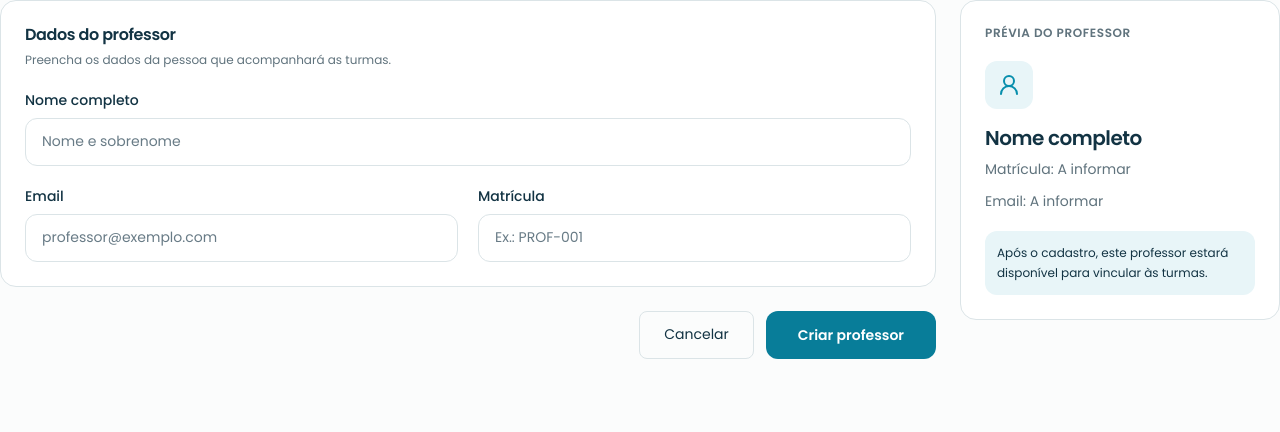
Test: formulário valida campos, mostra prévia e salva
Later steps or results of the test are not shown.
Submit the form
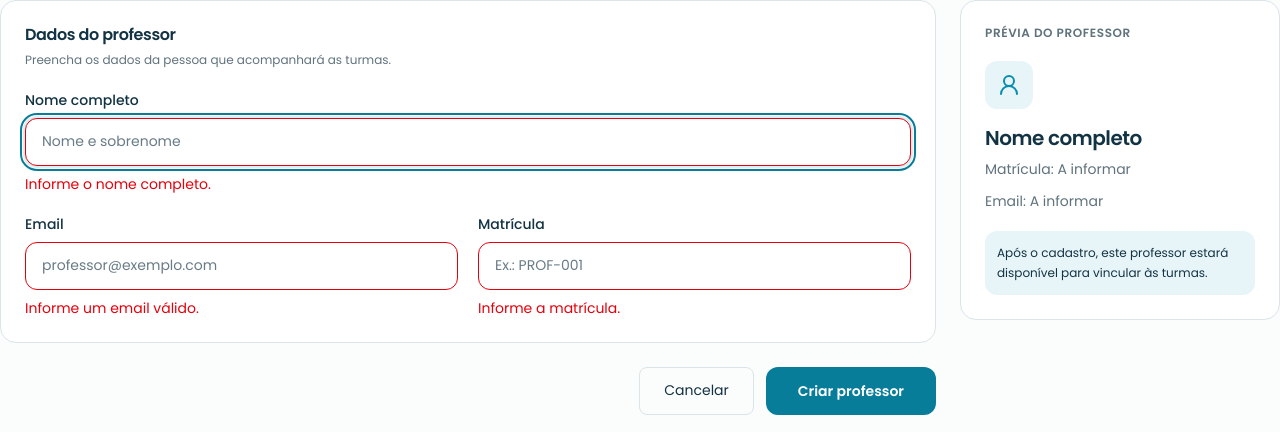
Expected: the message "Informe o nome completo." is shown, 25,174 -> 211,194
Type "Maria Silva" into the field named "name" at (468, 142), box 25,118 -> 911,166
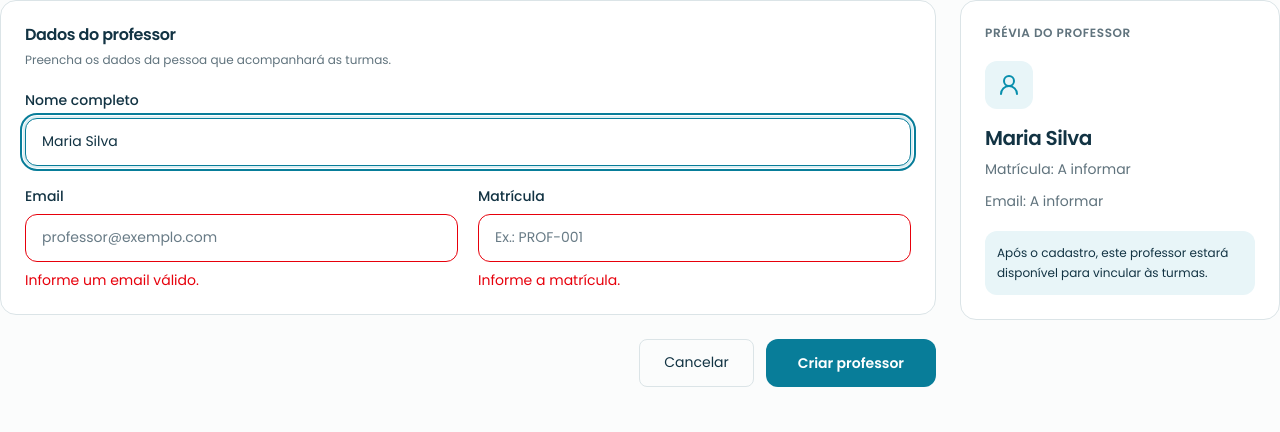
Type "maria@example.com" into the field labelled "Email" at (242, 238), box 25,214 -> 458,262
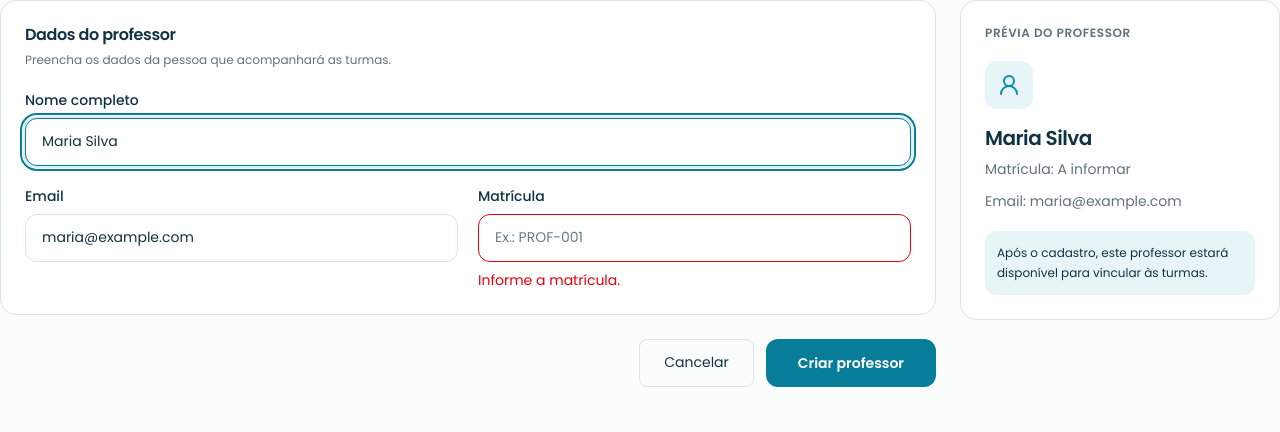
Type "t-1" into the field labelled "Matrícula" at (694, 238), box 478,214 -> 911,262
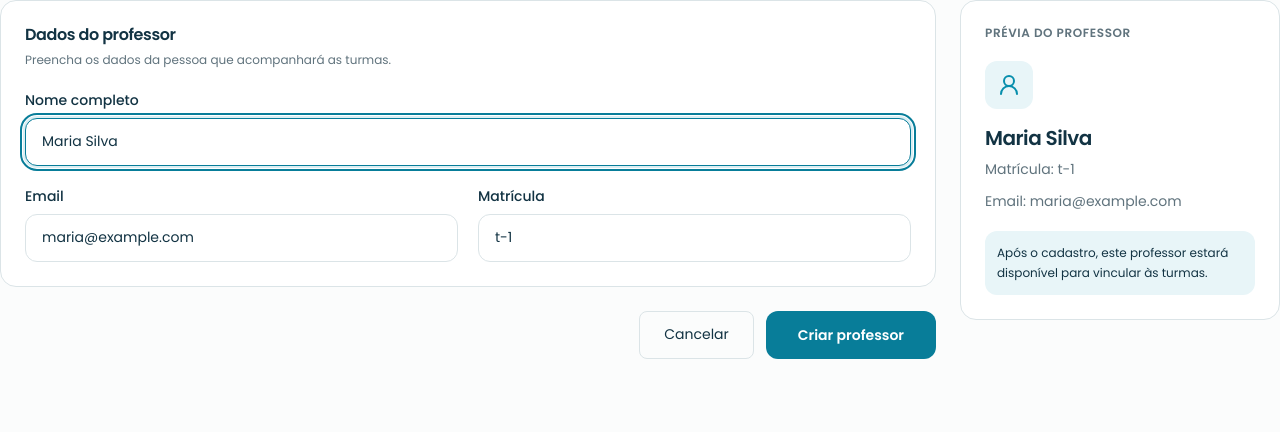
Expected: the heading "Maria Silva" is shown, 985,124 -> 1092,152
